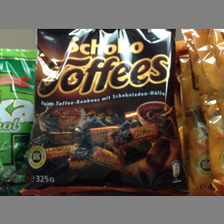candy: (36, 28, 179, 190)
